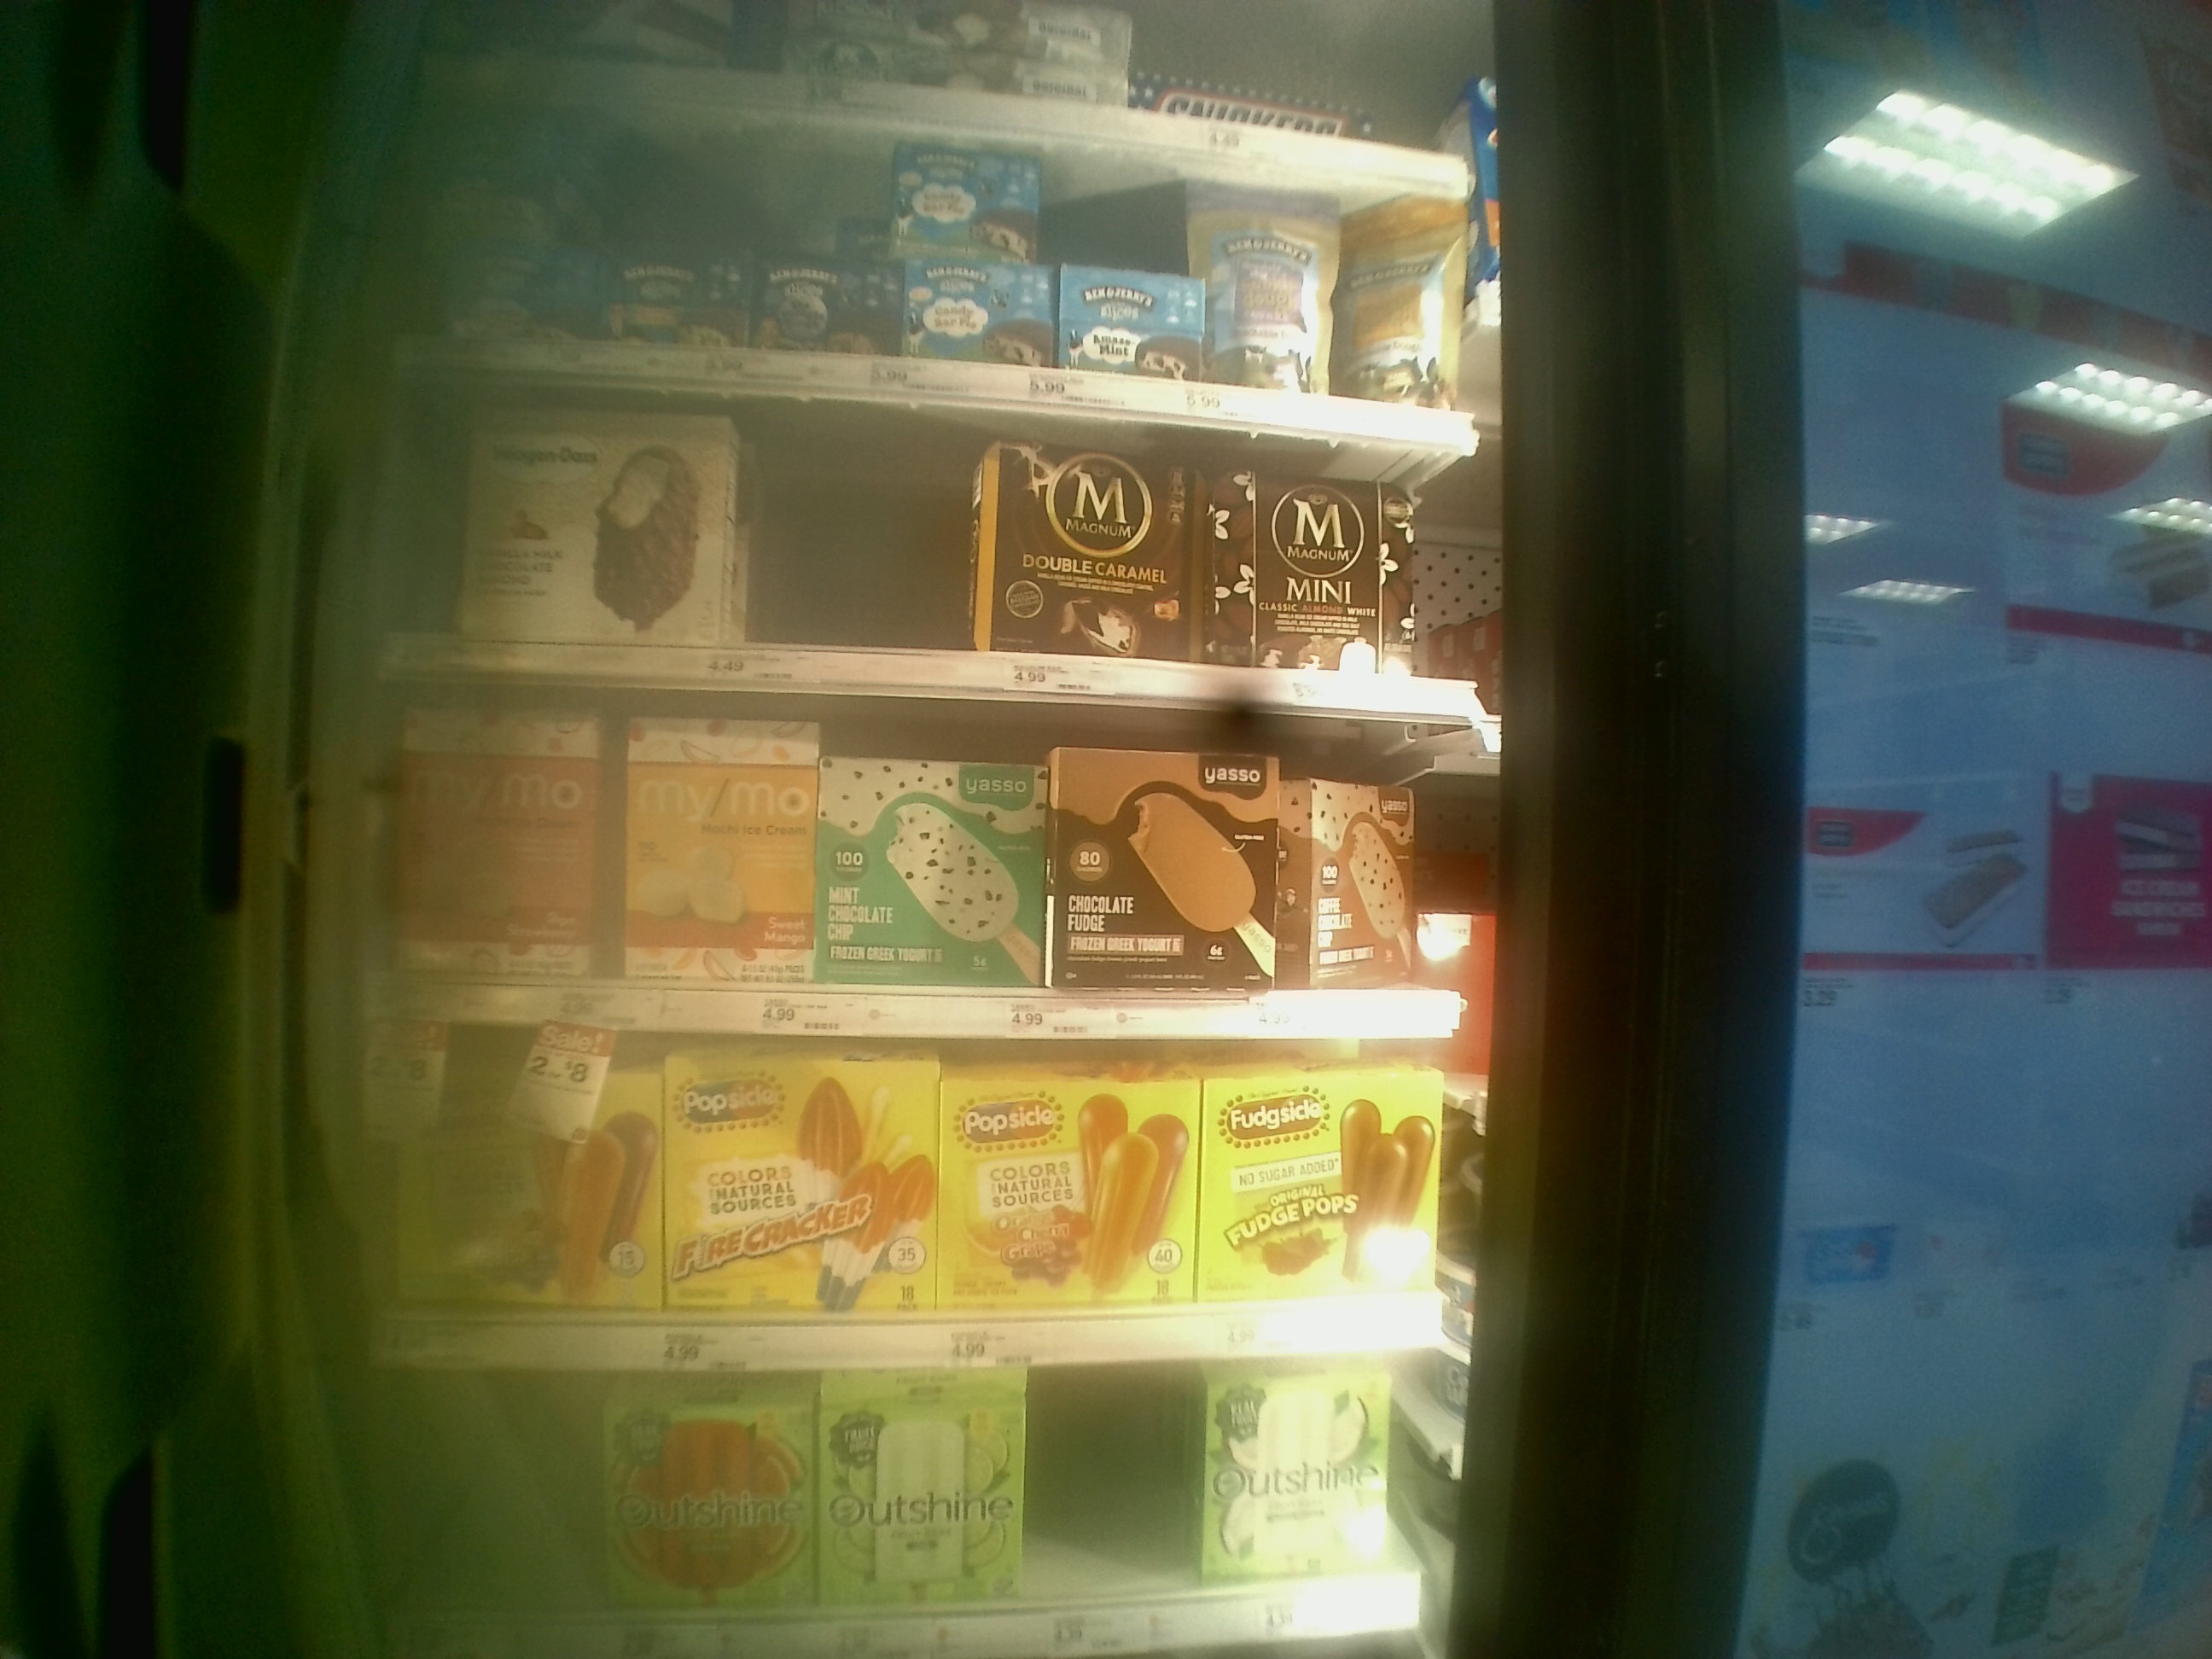shelf: (380, 706, 1486, 1033), (366, 1030, 1433, 1368), (374, 390, 1491, 708)
